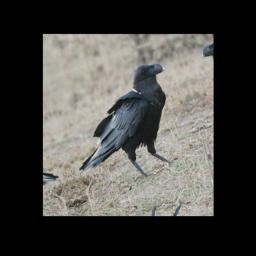Crow: (58, 58, 192, 199)
